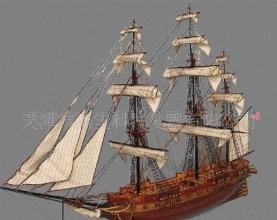fanchuan: (2, 1, 258, 215)
